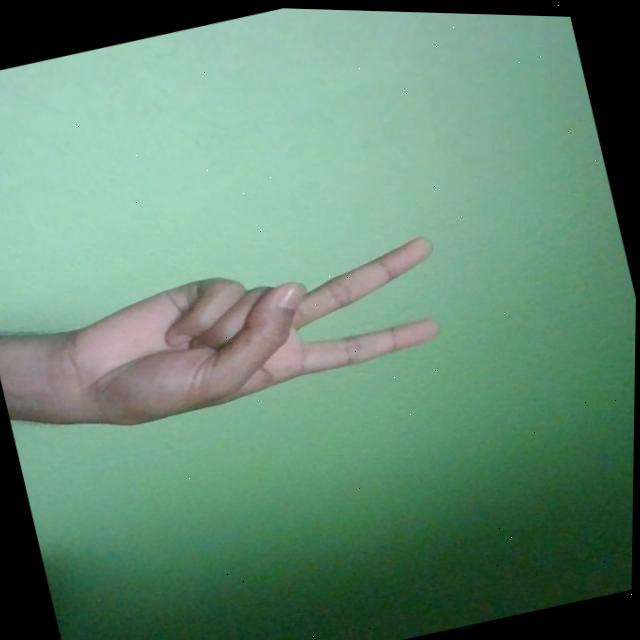Peace: (39, 217, 460, 448)
